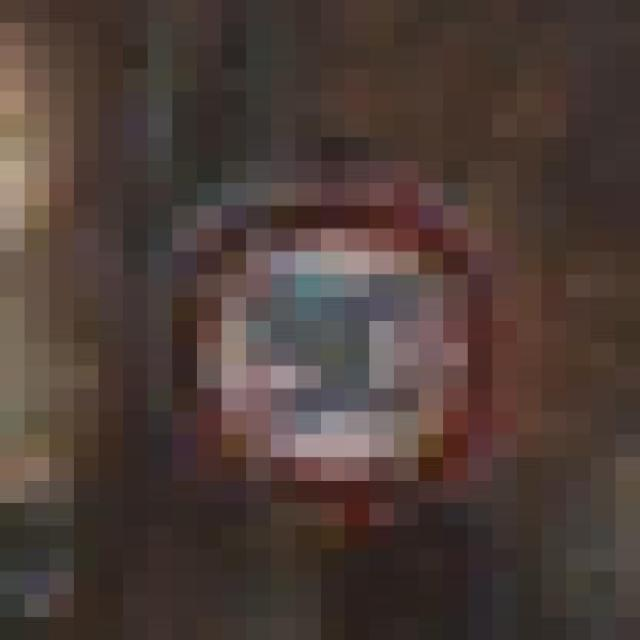50 mph speed limit: (74, 114, 541, 549)
